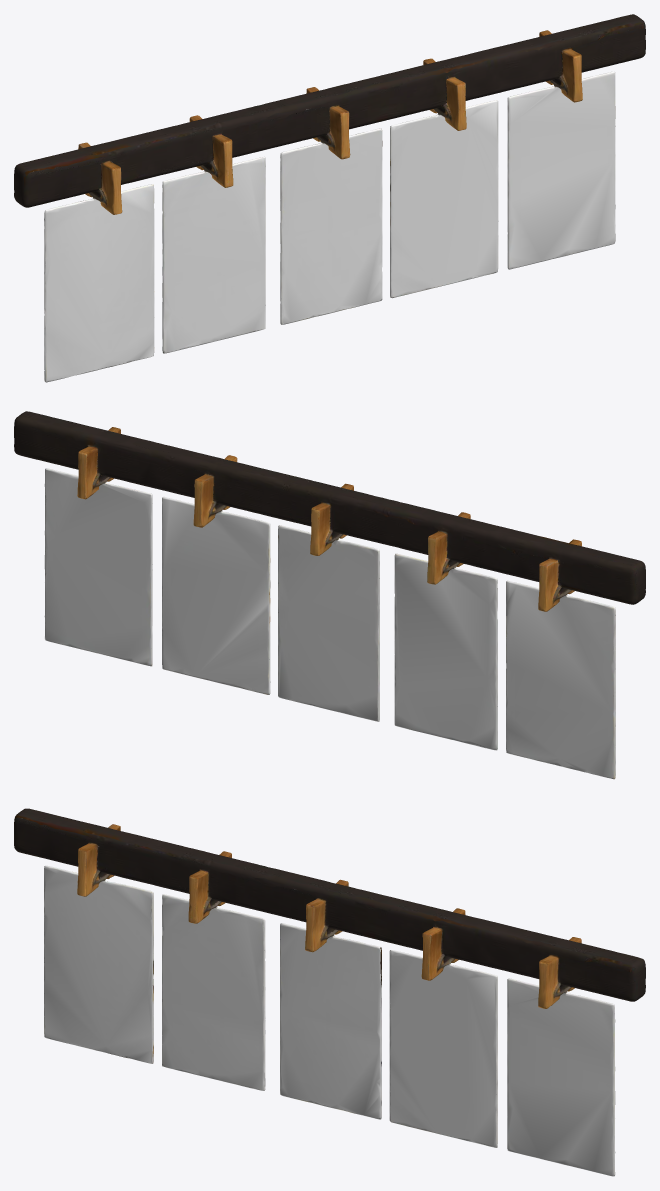
File: print-line.glb
3 views of the same model, one above another, from view 1: azimuth 30°, elevation 25°; view 2: azimuth 150°, elevation 25°; view 3: azimuth 330°, elevation 25° (orthographic).
Visible parts, largest first — view 1: Mesh_0; view 2: Mesh_0; view 3: Mesh_0.
Part boxes in pixels (box(x1,y1,x2,y2)): Mesh_0: box(14, 14, 645, 382); Mesh_0: box(14, 411, 645, 779); Mesh_0: box(14, 808, 645, 1176).
Size of the model in its own units: 1 by 0.3395 by 0.1024.
1 material, 1 textured.
